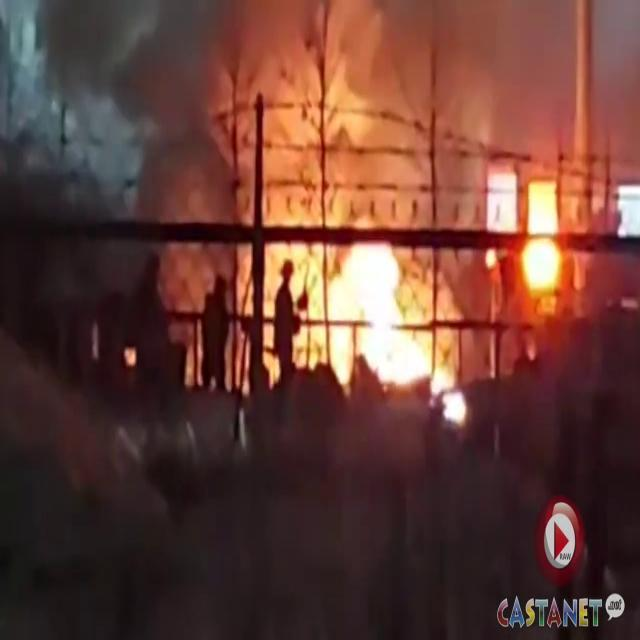Fire: (272, 208, 451, 408), (502, 176, 580, 319)
Smoke: (35, 1, 622, 202)
